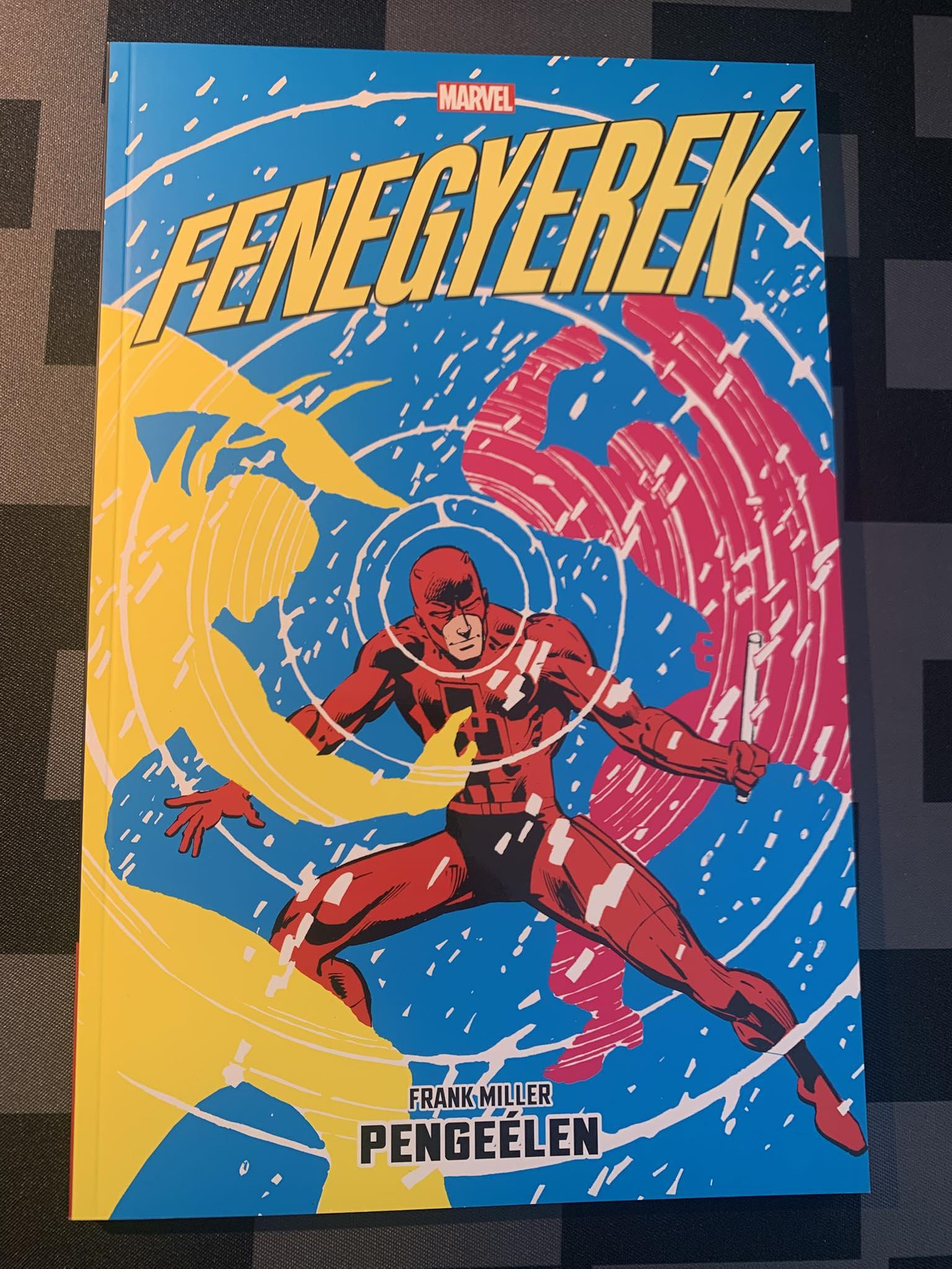comic: (72, 44, 883, 1228)
